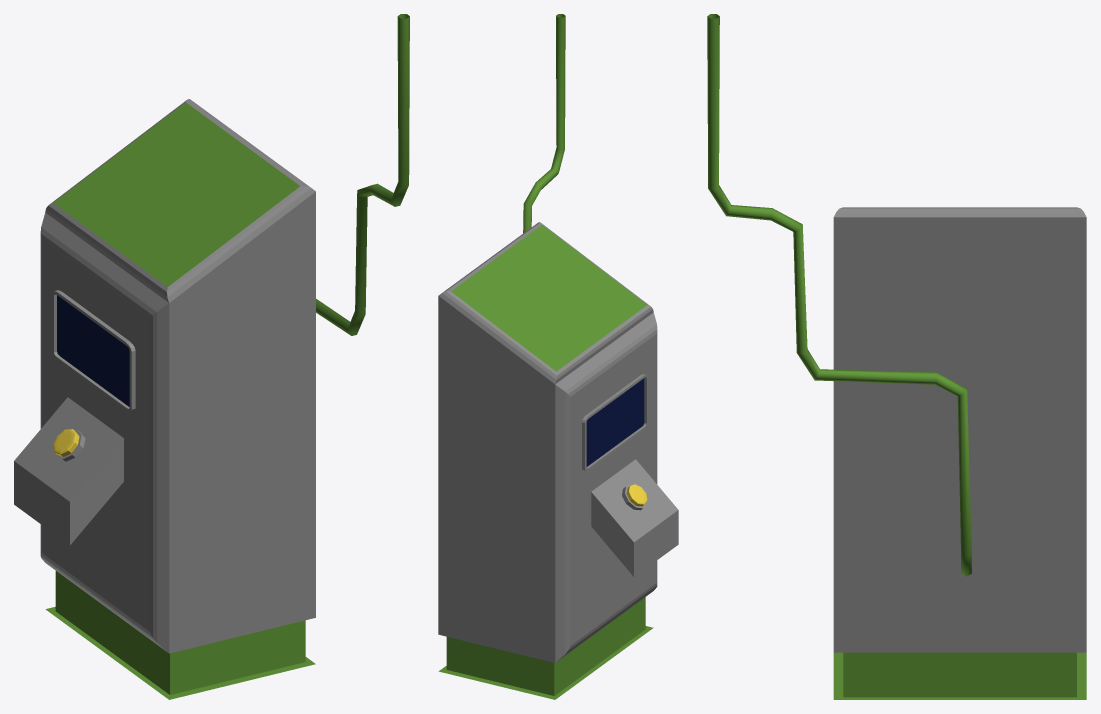
The model's file is GardenMachine.fbx.
3 renders of one model, left to right at view 1: azimuth 30°, elevation 25°; view 2: azimuth 150°, elevation 25°; view 3: azimuth 270°, elevation 25°, orthographic. The views are drawn at different scales.
Visible parts, largest first — view 1: Cube.343; view 2: Cube.343; view 3: Cube.343.
Part boxes in pixels (x1,y1,x2,y2): Cube.343: (14,14,409,699); Cube.343: (438,14,678,699); Cube.343: (707,14,1086,699).
Size of the model in its own units: 92.15 by 244 by 120.
